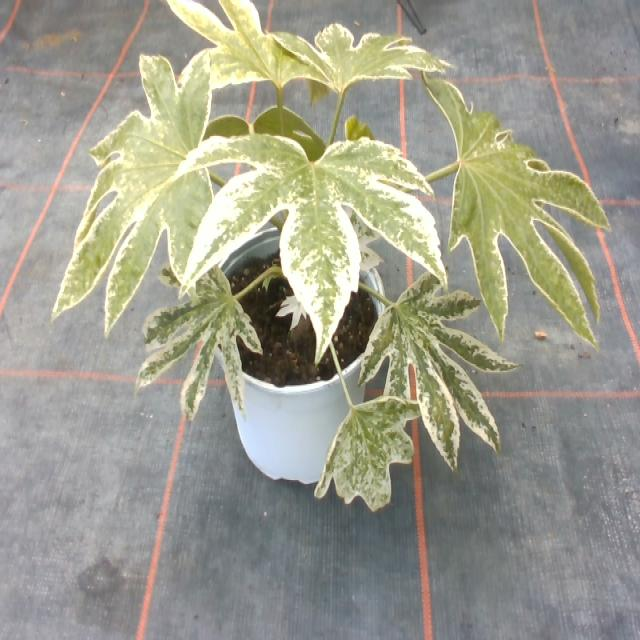Fatsia-japonica: (180, 108, 455, 349), (418, 62, 618, 352), (56, 59, 237, 346), (355, 262, 530, 465), (118, 263, 271, 418), (146, 0, 331, 117), (282, 16, 447, 112), (300, 402, 428, 522)
